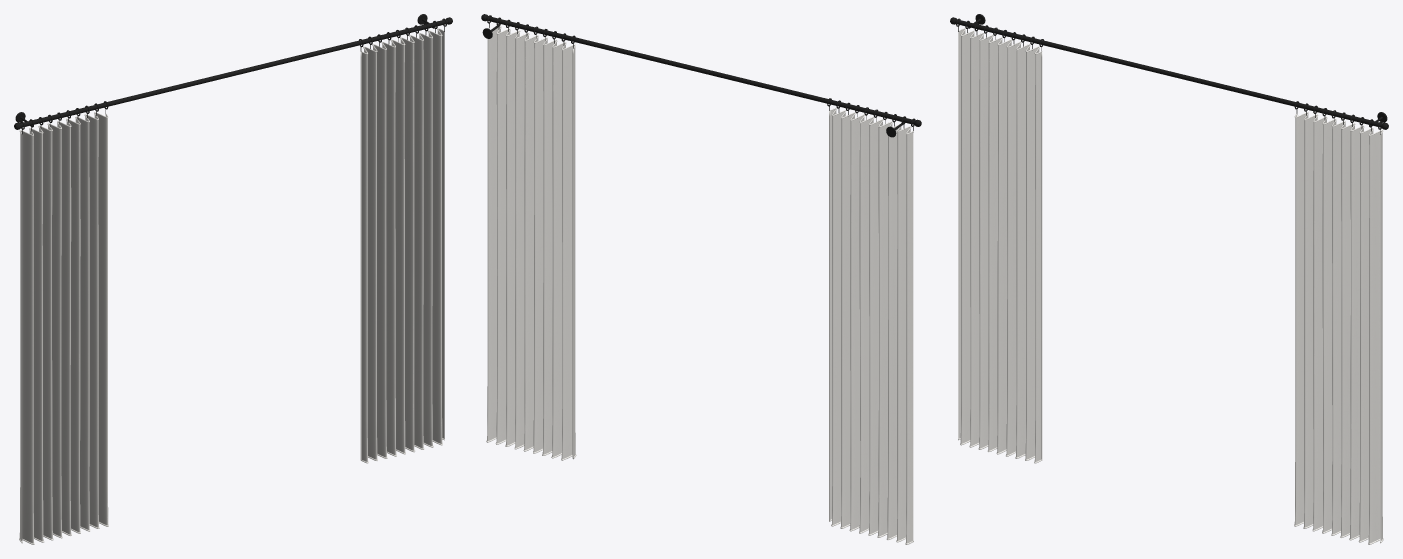
Rendered from cortina_onda_260_c40.glb.
3 renders of one model, left to right at view 1: azimuth 30°, elevation 25°; view 2: azimuth 150°, elevation 25°; view 3: azimuth 330°, elevation 25°, orthographic.
Parts seen in each view (by area): view 1: cortina_onda_260_c40; view 2: cortina_onda_260_c40; view 3: cortina_onda_260_c40.
Part boxes in pixels (x1=…): cortina_onda_260_c40: x1=14, y1=14, x2=452, y2=544; cortina_onda_260_c40: x1=481, y1=14, x2=921, y2=544; cortina_onda_260_c40: x1=950, y1=14, x2=1388, y2=544.
Bounding box in the file's own units: 2.6 × 2.39 × 0.1781.
Materials: 2 (1 with a texture image).
